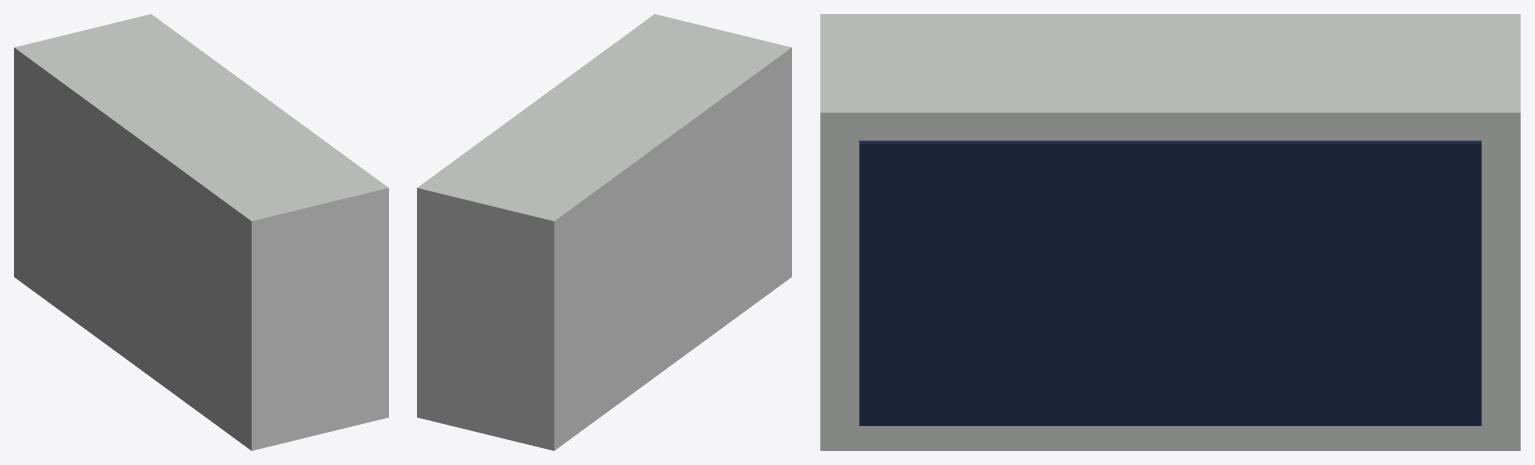
File: s60_regulator.obj
3 views of the same model, side by side, from view 1: azimuth 30°, elevation 25°; view 2: azimuth 150°, elevation 25°; view 3: azimuth 270°, elevation 25° (orthographic). The views are drawn at different scales.
Visible parts, largest first — view 1: s60_regulator; view 2: s60_regulator; view 3: s60_regulator.
Part boxes in pixels (x1,y1,x2,y2): s60_regulator: (14,14,388,450); s60_regulator: (417,14,791,450); s60_regulator: (820,14,1520,450).
Bounding box in the file's own units: 0.2236 × 0.3462 × 0.6491.
